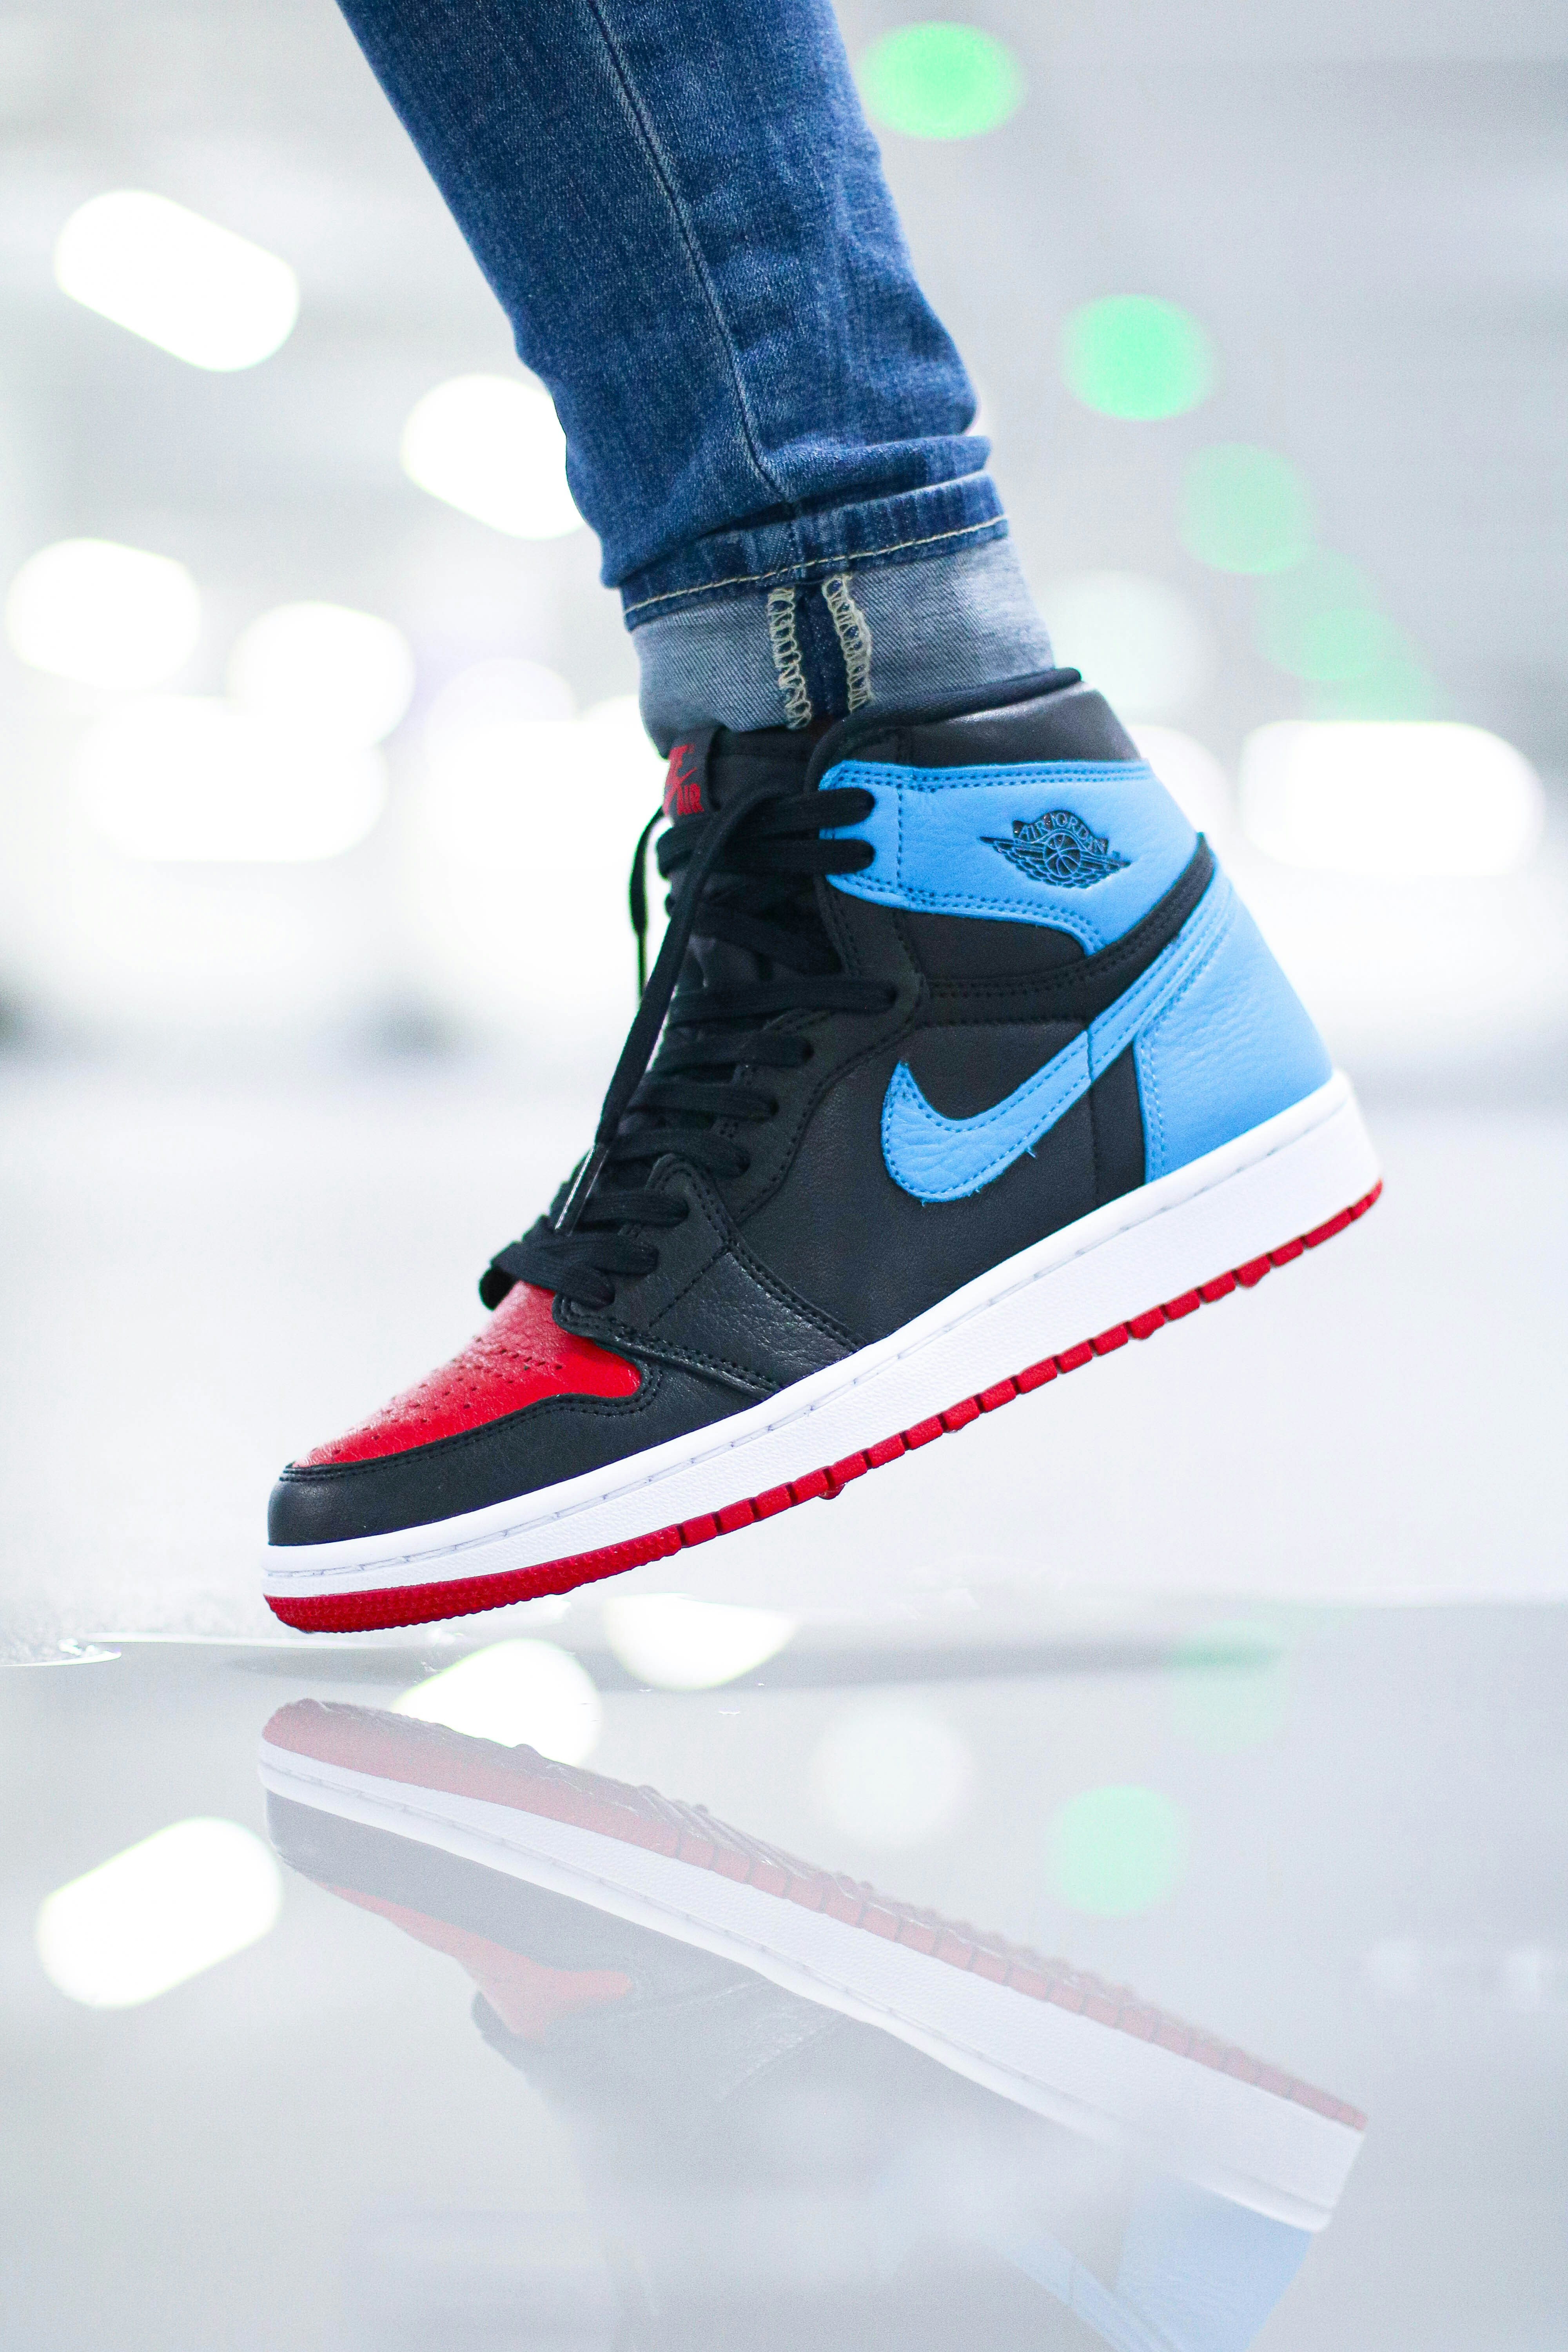Footwear: (180, 705, 1391, 1640)
